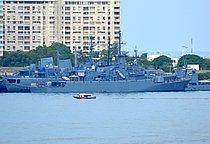MIL_Ship: (28, 40, 193, 94)
